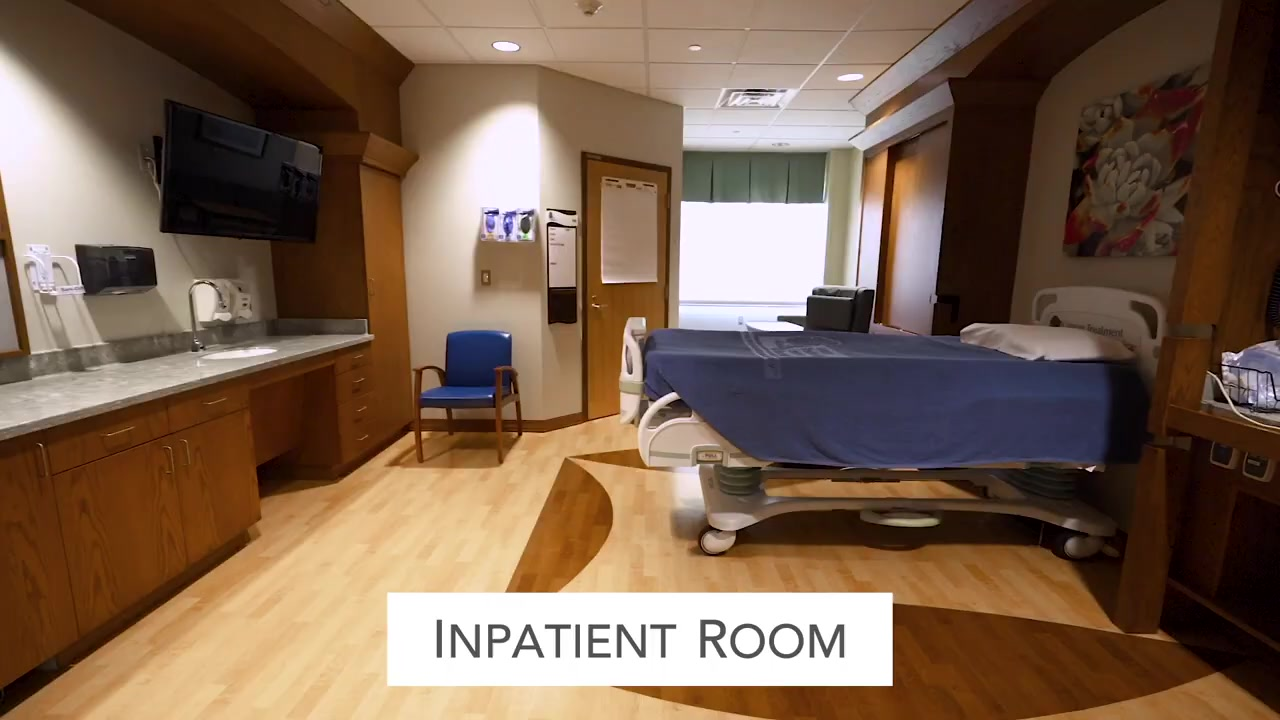TV: (164, 97, 322, 242)
bedrail: (641, 391, 761, 469)
chair: (412, 323, 524, 467)
counter: (1, 336, 372, 683)
countertop: (1, 335, 374, 436)
dispenser: (76, 242, 158, 296), (477, 204, 536, 243), (193, 279, 231, 325), (226, 278, 253, 321)
door_handle: (591, 302, 611, 311)
faucet: (188, 277, 226, 353)
foot_board: (617, 317, 650, 425)
handle: (34, 433, 48, 487), (102, 424, 140, 438), (162, 447, 175, 476), (200, 395, 231, 407), (180, 439, 192, 469), (347, 376, 365, 387), (368, 278, 378, 296), (355, 432, 369, 440), (355, 404, 367, 412), (351, 354, 365, 360)
hospital_bed: (618, 290, 1173, 557)
overbed_table: (746, 321, 804, 332)
sink: (195, 349, 282, 363)
sofa: (803, 286, 876, 332)
